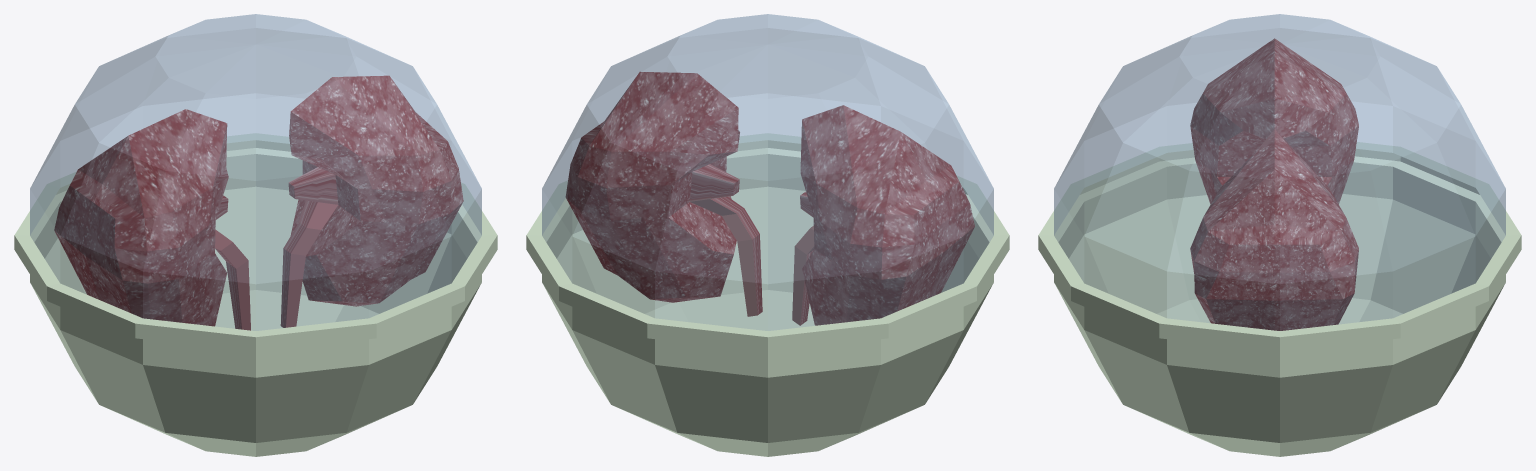
File: kidneyGacha.fbx
3 renders of one model, left to right at view 1: azimuth 30°, elevation 25°; view 2: azimuth 150°, elevation 25°; view 3: azimuth 270°, elevation 25°, orthographic.
Parts seen in each view (by area): view 1: Top, Sphere, kidney; view 2: Top, Sphere, kidney; view 3: Top, Sphere, kidney.
Boxes of the visible parts, x1,y1,x2,y2 form: Top: (30, 14, 481, 330); Sphere: (14, 133, 497, 456); kidney: (54, 75, 463, 330); Top: (542, 14, 993, 330); Sphere: (526, 133, 1009, 456); kidney: (565, 72, 974, 325); Top: (1054, 14, 1505, 330); Sphere: (1038, 142, 1521, 456); kidney: (1190, 38, 1358, 330).
Size of the model in its own units: 295 by 257 by 295.
